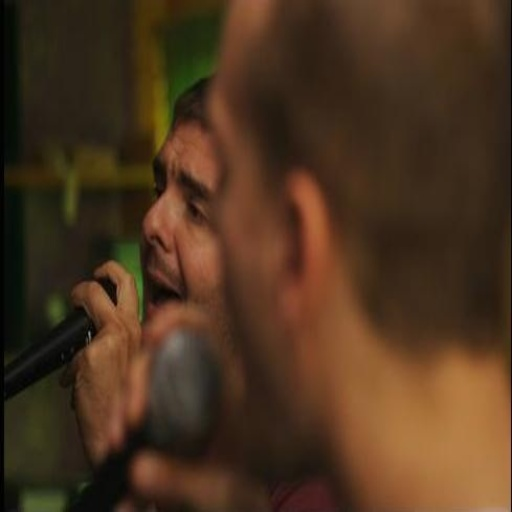hand: (107, 300, 270, 508), (12, 263, 161, 459)
